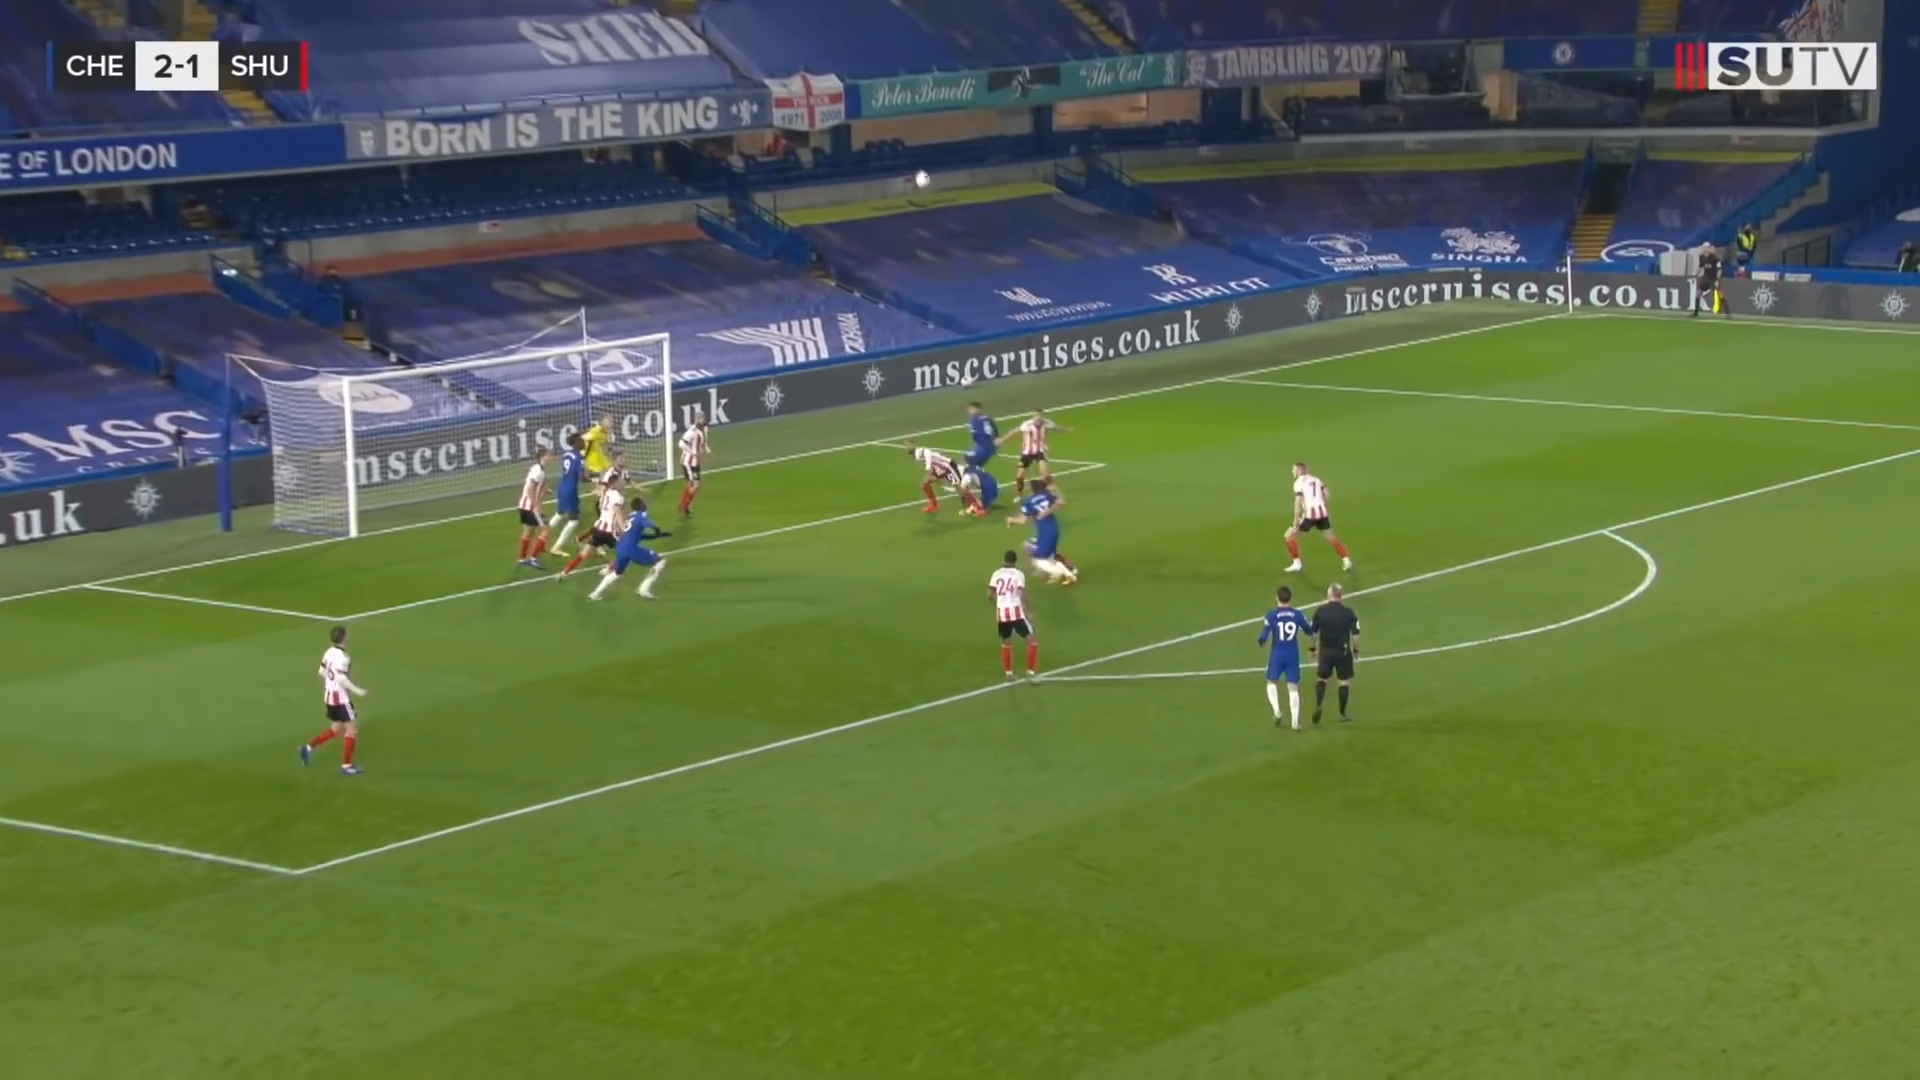Player: (302, 607, 377, 789), (1279, 450, 1363, 565), (1252, 579, 1311, 741), (982, 547, 1045, 684)
